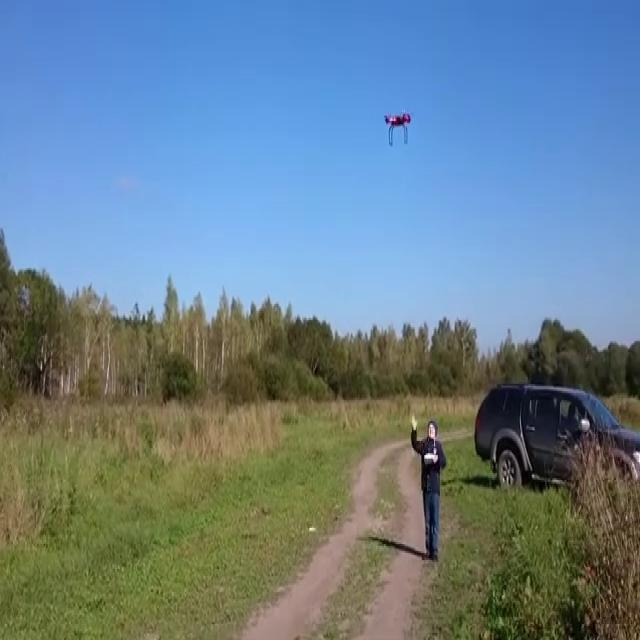Drons: (381, 108, 417, 148)
